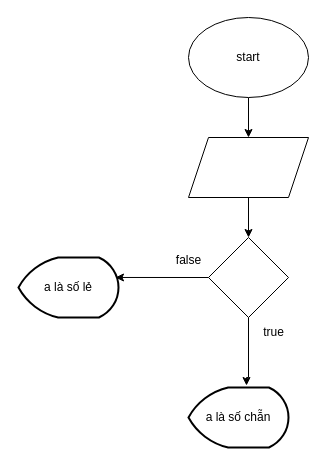
Image size: 326x466. Some labels were removed from this diagram. Each missing label, with the centre of its shape:
"a % 2 = 0" goes at (x=248, y=277).
"nhập a" goes at (x=248, y=167).
